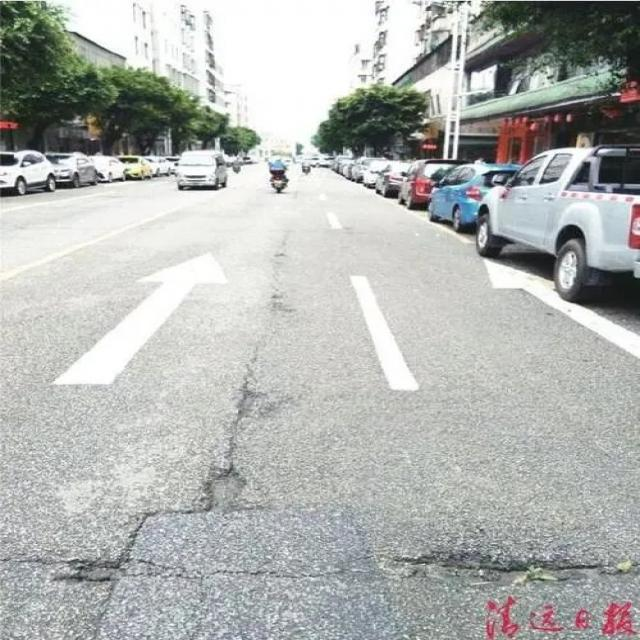Pothole: (396, 549, 638, 588), (200, 467, 251, 513), (233, 385, 271, 421), (65, 561, 119, 585)
